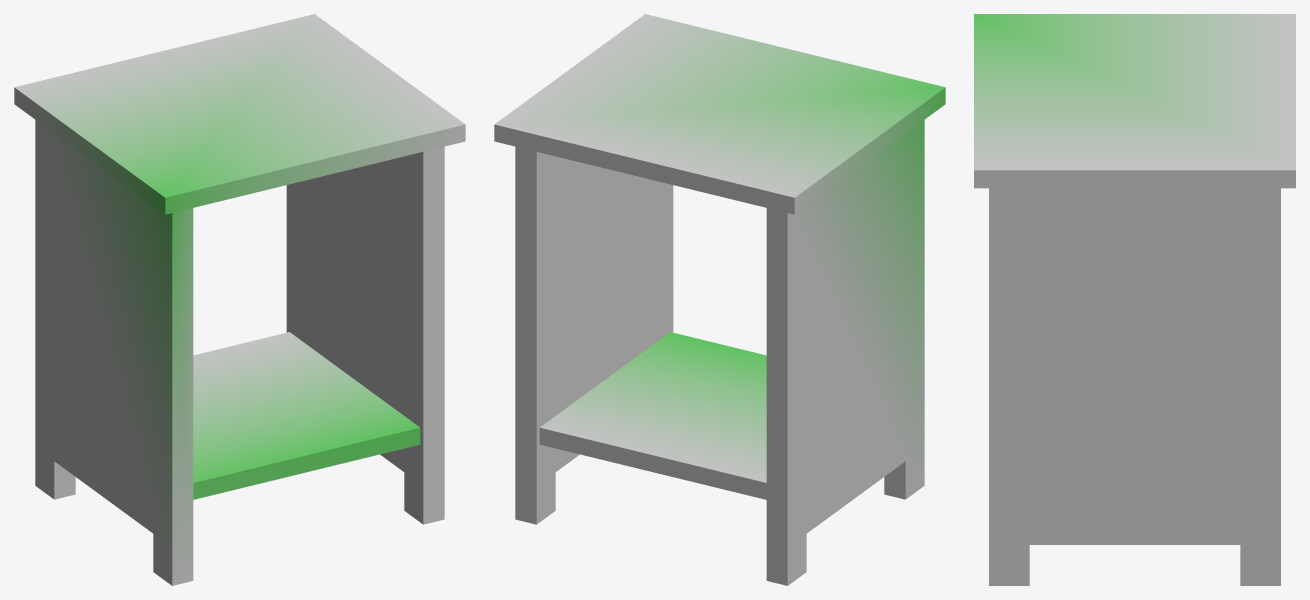
Rendered from Table_6.fbx.
3 views of the same model, side by side, from view 1: azimuth 30°, elevation 25°; view 2: azimuth 150°, elevation 25°; view 3: azimuth 270°, elevation 25° (orthographic). The views are drawn at different scales.
Visible parts, largest first — view 1: Table_6; view 2: Table_6; view 3: Table_6.
Boxes of the visible parts, x1,y1,x2,y2 form: Table_6: [14, 14, 465, 585]; Table_6: [494, 14, 945, 585]; Table_6: [974, 14, 1295, 585].
Size of the model in its own units: 0.7517 by 0.9487 by 0.6542.
